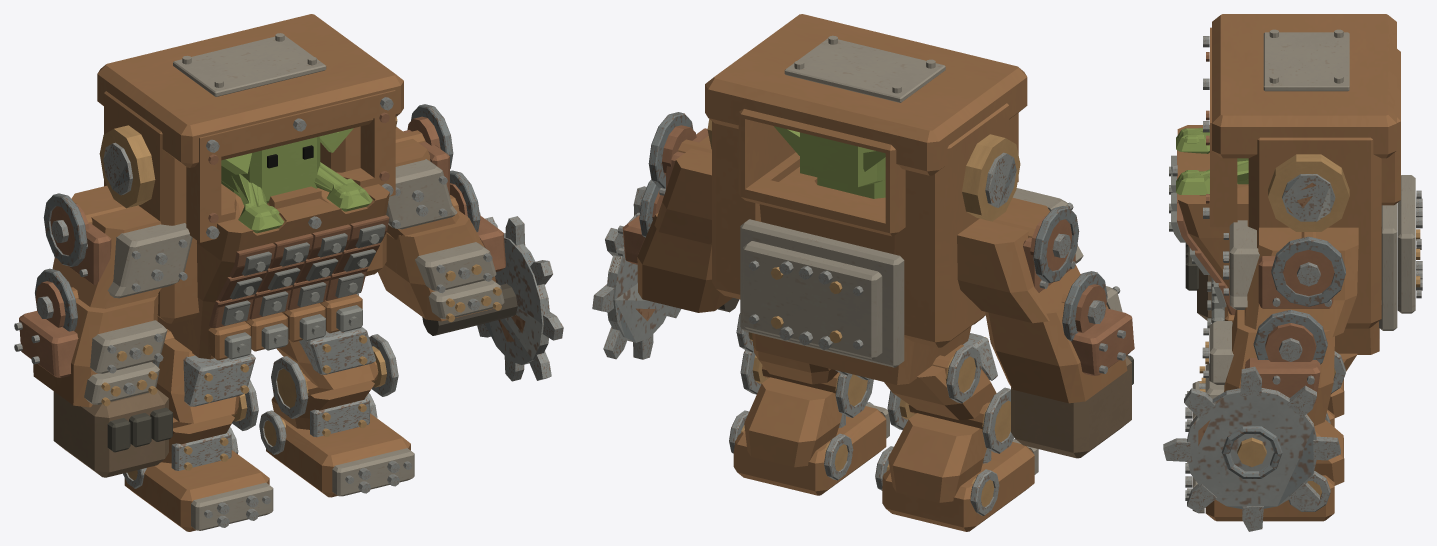
Rendered from host_24.glb.
3 views of the same model, side by side, from view 1: azimuth 30°, elevation 25°; view 2: azimuth 150°, elevation 25°; view 3: azimuth 270°, elevation 25° (orthographic). The views are drawn at different scales.
Visible parts, largest first — view 1: Mechanism body — one actual planted frame limbs and through , Source mech plate — actual separate riveted FRONT arm plate  (×6), Mech — right actual joined planar fist, Source mech roof — actual raised gray access plate159, Saw — actual left steel disk, Source mech leg — actual slanted riveted sagittal plate 1 0. (×2), Head — continuous source square skull under helmet, Source mech leg — actual slanted riveted sagittal plate -1 0 (×2), Source mech plate — actual riveted OUTER arm plate 1 1, Mechanism — large source tower circular pivot.001, Source mech foot — distinct actual copper toe panel -1, Source mech foot — distinct actual copper toe panel 1 (+21 smaller); view 2: Mechanism body — one actual planted frame limbs and through , Source mech rear — actual layered copper access panel, Mech — right actual joined planar fist, Mechanism — actual source rear housing plate, Source mech roof — actual raised gray access plate159, Head — continuous source square skull under helmet, Saw — actual left steel disk, Mechanism — large source tower circular pivot.001, Source mech plate — actual riveted OUTER arm plate 1 1, Mech arm — real lateral shoulder steel bearing 1, Mechanism — native pivot inset disk.001, Mech arm — real lateral shoulder steel bearing -1 (+14 smaller); view 3: Mechanism body — one actual planted frame limbs and through , Saw — actual left steel disk, Source mech roof — actual raised gray access plate159, Source mech plate — actual separate riveted FRONT arm plate  (×2), Mechanism — large source tower circular pivot, Source mech rear — actual layered copper access panel, Mech arm — real lateral shoulder steel bearing -1, Mechanism — actual source rear housing plate, Mechanism — native pivot inset disk, Source mech plate — actual riveted OUTER arm plate -1 1, Mech arm — real lateral elbow steel bearing -1, Mech arm — source outboard shoulder copper hub -1 (+21 smaller).
Part boxes in pixels (left/top/right/bottom): Mechanism body — one actual planted frame limbs and through : left=33, top=14, right=517, bottom=531; Source mech plate — actual separate riveted FRONT arm plate  (×6): left=84, top=159, right=504, bottom=404; Mech — right actual joined planar fist: left=53, top=389, right=168, bottom=477; Source mech roof — actual raised gray access plate159: left=173, top=35, right=326, bottom=96; Saw — actual left steel disk: left=485, top=233, right=549, bottom=364; Source mech leg — actual slanted riveted sagittal plate 1 0. (×2): left=171, top=353, right=255, bottom=470; Head — continuous source square skull under helmet: left=221, top=128, right=353, bottom=203; Source mech leg — actual slanted riveted sagittal plate -1 0 (×2): left=299, top=327, right=375, bottom=437; Source mech plate — actual riveted OUTER arm plate 1 1: left=19, top=311, right=78, bottom=377; Mechanism — large source tower circular pivot.001: left=99, top=125, right=155, bottom=208; Source mech foot — distinct actual copper toe panel -1: left=332, top=448, right=414, bottom=496; Source mech foot — distinct actual copper toe panel 1: left=191, top=482, right=273, bottom=530; Mechanism body — one actual planted frame limbs and through : left=637, top=14, right=1127, bottom=531; Source mech rear — actual layered copper access panel: left=743, top=241, right=882, bottom=359; Mech — right actual joined planar fist: left=1011, top=355, right=1131, bottom=458; Mechanism — actual source rear housing plate: left=740, top=219, right=904, bottom=367; Source mech roof — actual raised gray access plate159: left=784, top=38, right=945, bottom=102; Head — continuous source square skull under helmet: left=774, top=126, right=885, bottom=187; Saw — actual left steel disk: left=607, top=214, right=671, bottom=342; Mechanism — large source tower circular pivot.001: left=962, top=134, right=1020, bottom=221; Source mech plate — actual riveted OUTER arm plate 1 1: left=1071, top=308, right=1134, bottom=375; Mech arm — real lateral shoulder steel bearing 1: left=1033, top=206, right=1079, bottom=283; Mechanism — native pivot inset disk.001: left=985, top=152, right=1016, bottom=207; Mech arm — real lateral shoulder steel bearing -1: left=648, top=112, right=693, bottom=188; Mechanism body — one actual planted frame limbs and through : left=1177, top=14, right=1400, bottom=521; Saw — actual left steel disk: left=1187, top=388, right=1316, bottom=509; Source mech roof — actual raised gray access plate159: left=1263, top=32, right=1349, bottom=91; Source mech plate — actual separate riveted FRONT arm plate  (×2): left=1209, top=220, right=1259, bottom=384; Mechanism — large source tower circular pivot: left=1268, top=154, right=1349, bottom=231; Source mech rear — actual layered copper access panel: left=1397, top=175, right=1415, bottom=313; Mech arm — real lateral shoulder steel bearing -1: left=1271, top=236, right=1345, bottom=306; Mechanism — actual source rear housing plate: left=1379, top=203, right=1397, bottom=330; Mechanism — native pivot inset disk: left=1282, top=174, right=1335, bottom=221; Source mech plate — actual riveted OUTER arm plate -1 1: left=1245, top=358, right=1320, bottom=403; Mech arm — real lateral elbow steel bearing -1: left=1253, top=309, right=1327, bottom=364; Mech arm — source outboard shoulder copper hub -1: left=1283, top=250, right=1334, bottom=295.
Bounding box in the file's own units: 3.81 × 3.14 × 1.78.
Materials: 14 (13 with a texture image).
